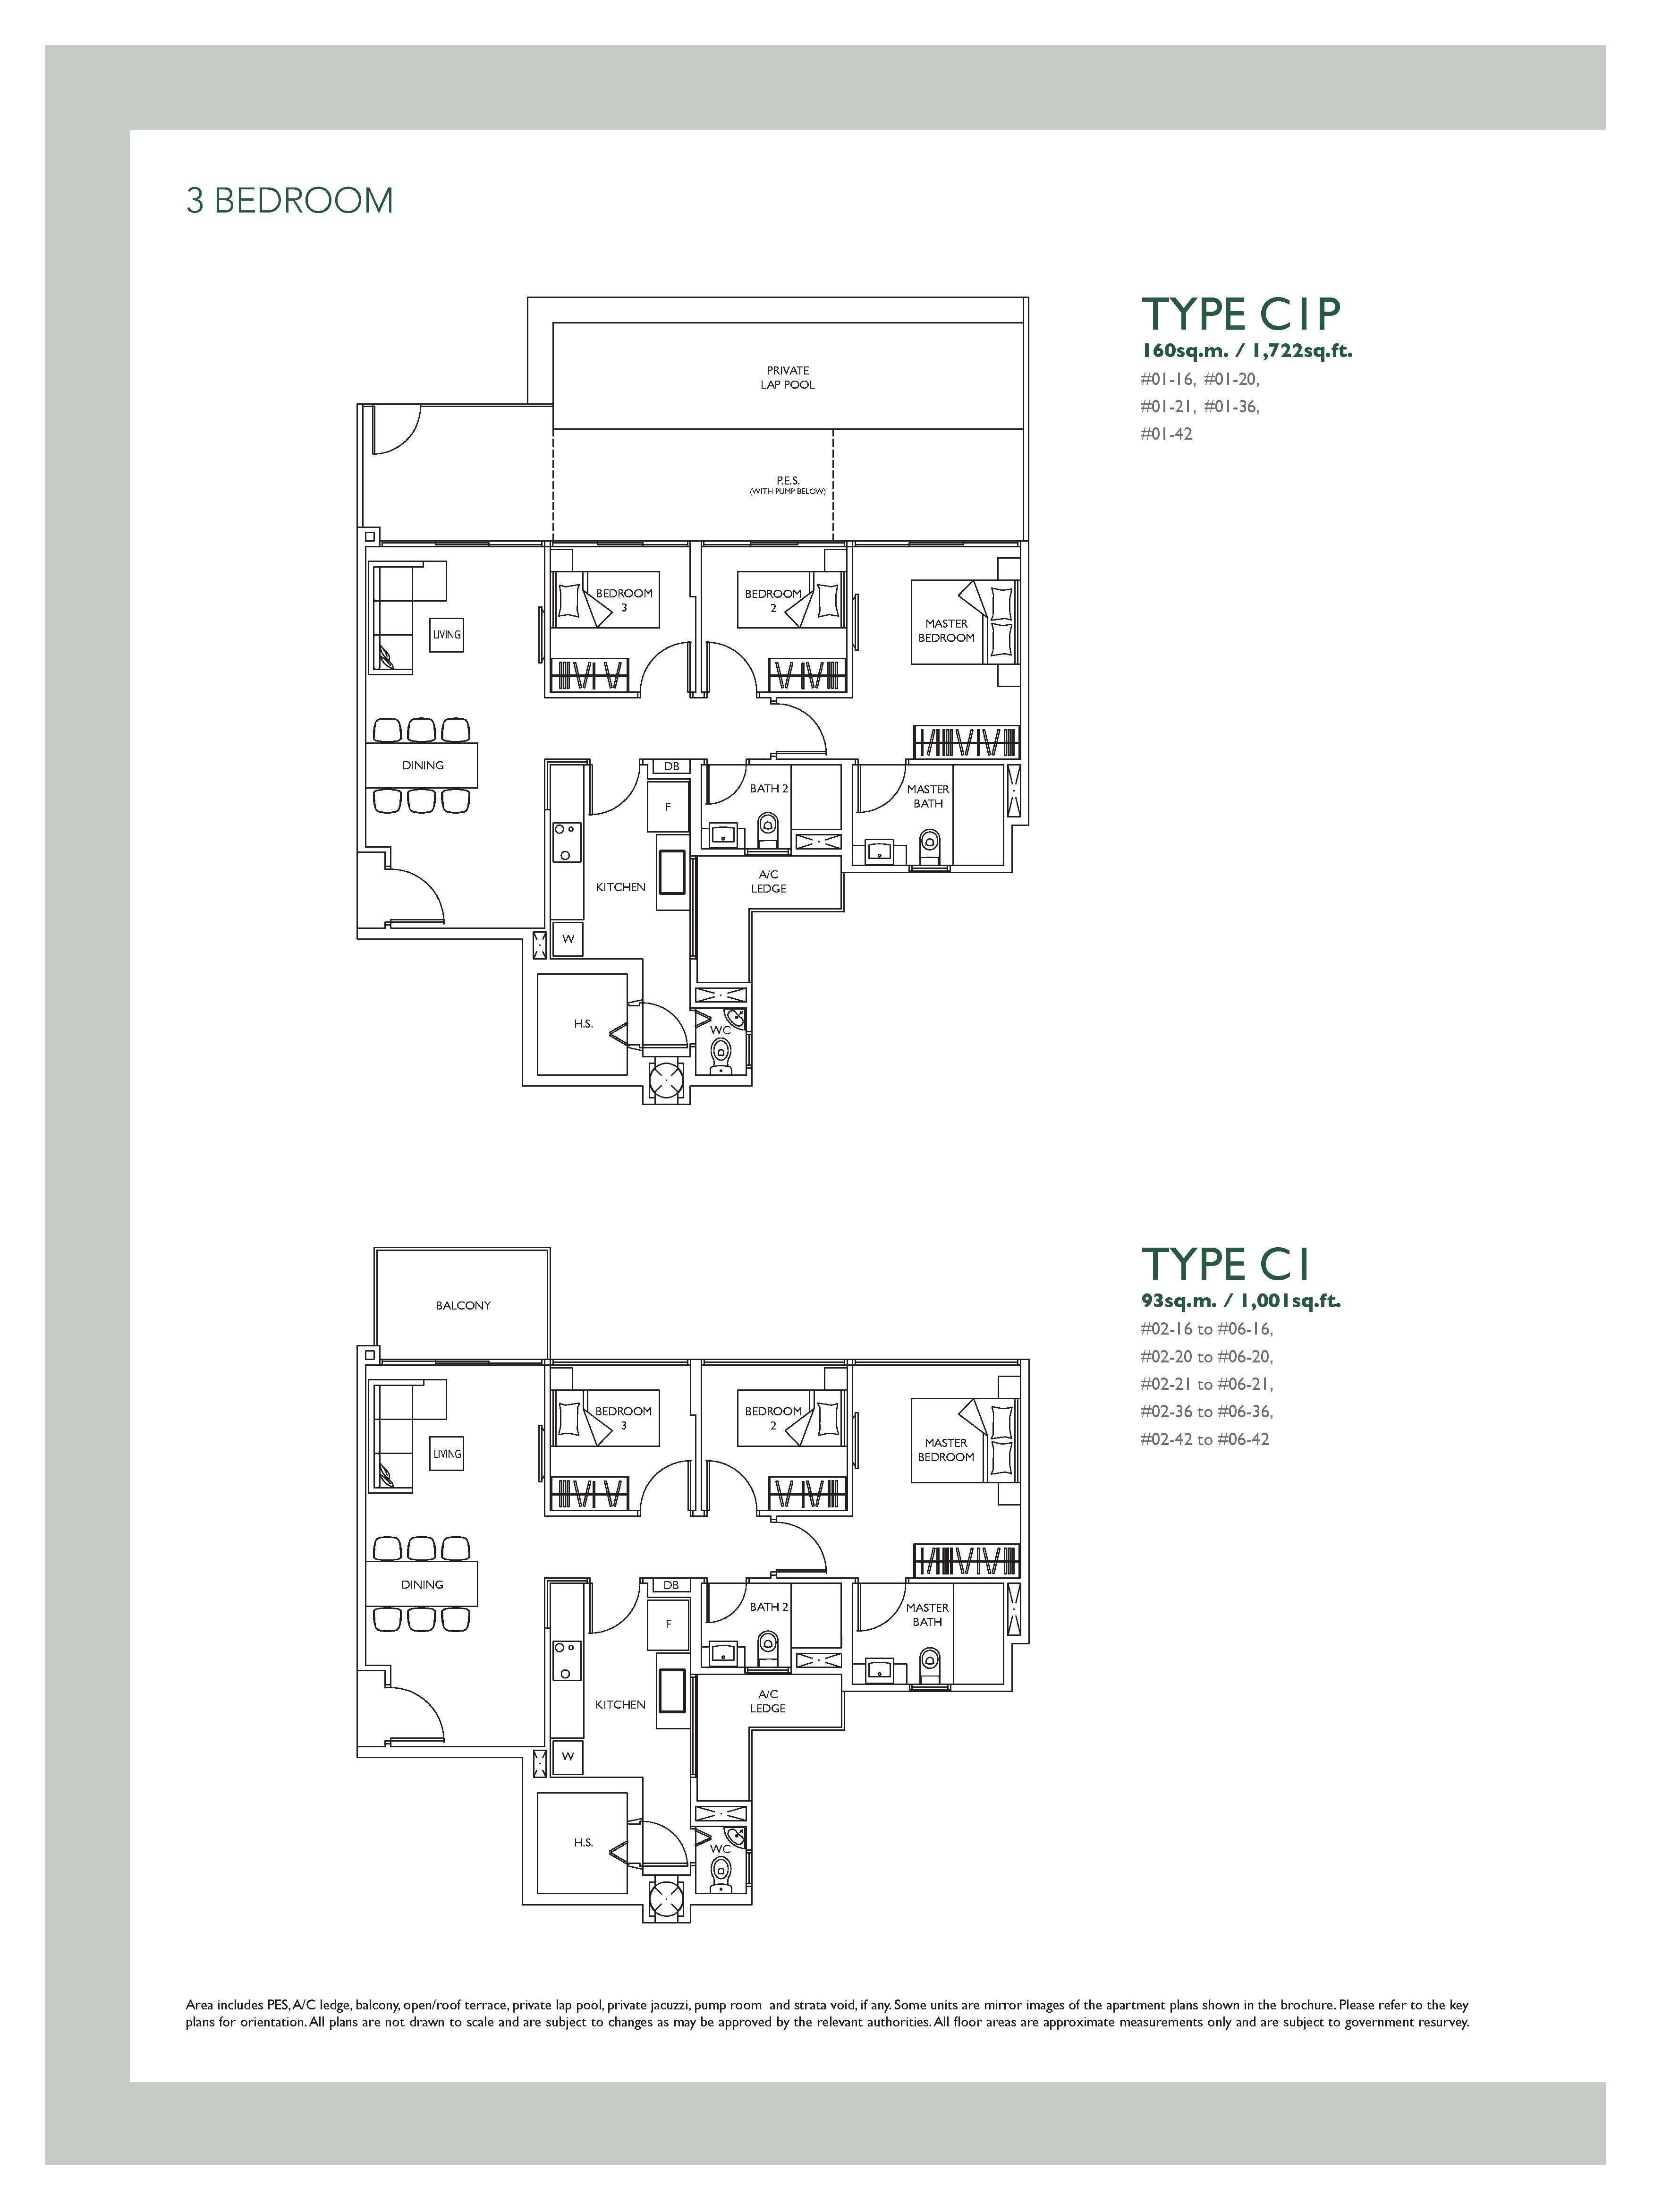door: (382, 867, 457, 928), (584, 759, 643, 818), (855, 761, 910, 820), (773, 700, 827, 759), (368, 408, 424, 462), (636, 641, 691, 693), (702, 638, 758, 690), (704, 763, 749, 813)
